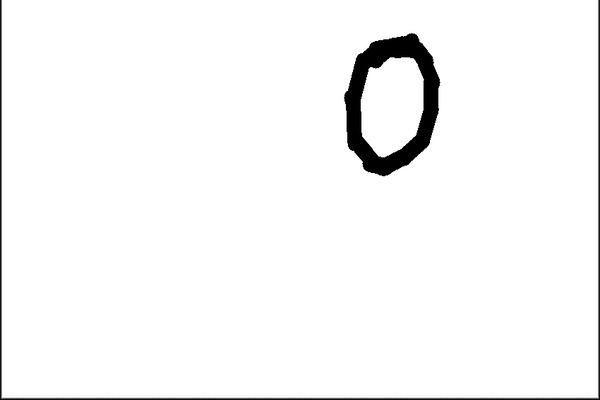O: (325, 22, 453, 190)
